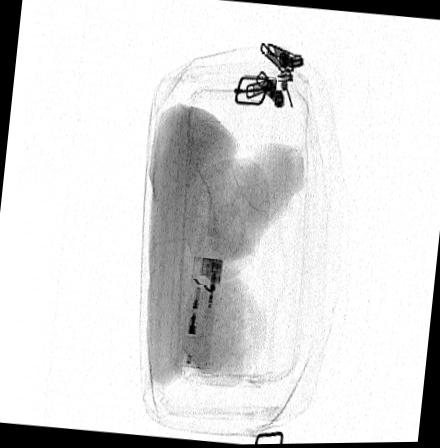Lighter: (178, 256, 223, 370)
